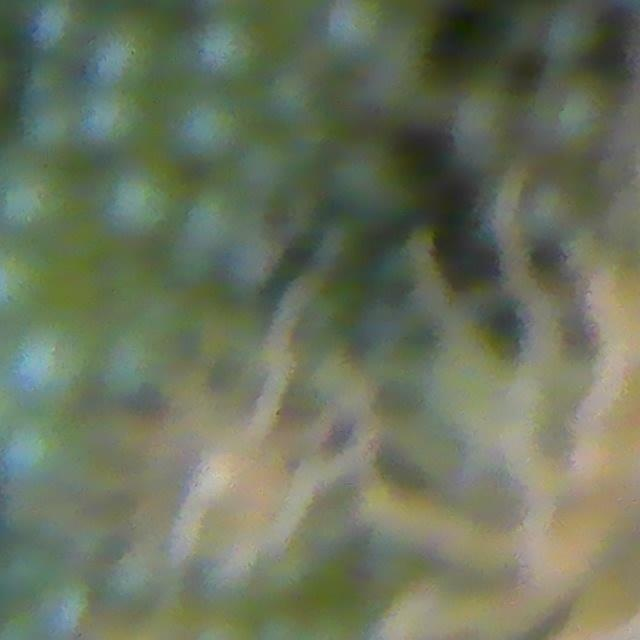SeaGrape: (324, 138, 413, 225), (528, 73, 615, 158), (1, 317, 85, 401), (0, 146, 71, 245), (101, 155, 177, 247), (87, 13, 165, 92), (189, 11, 265, 88), (0, 418, 74, 496), (234, 132, 305, 203), (181, 184, 249, 256), (168, 93, 235, 163), (75, 92, 138, 160), (258, 67, 322, 132), (541, 0, 602, 65), (322, 0, 391, 57), (32, 577, 93, 640), (22, 103, 82, 163), (221, 227, 281, 283), (33, 0, 96, 53), (104, 550, 159, 610)
